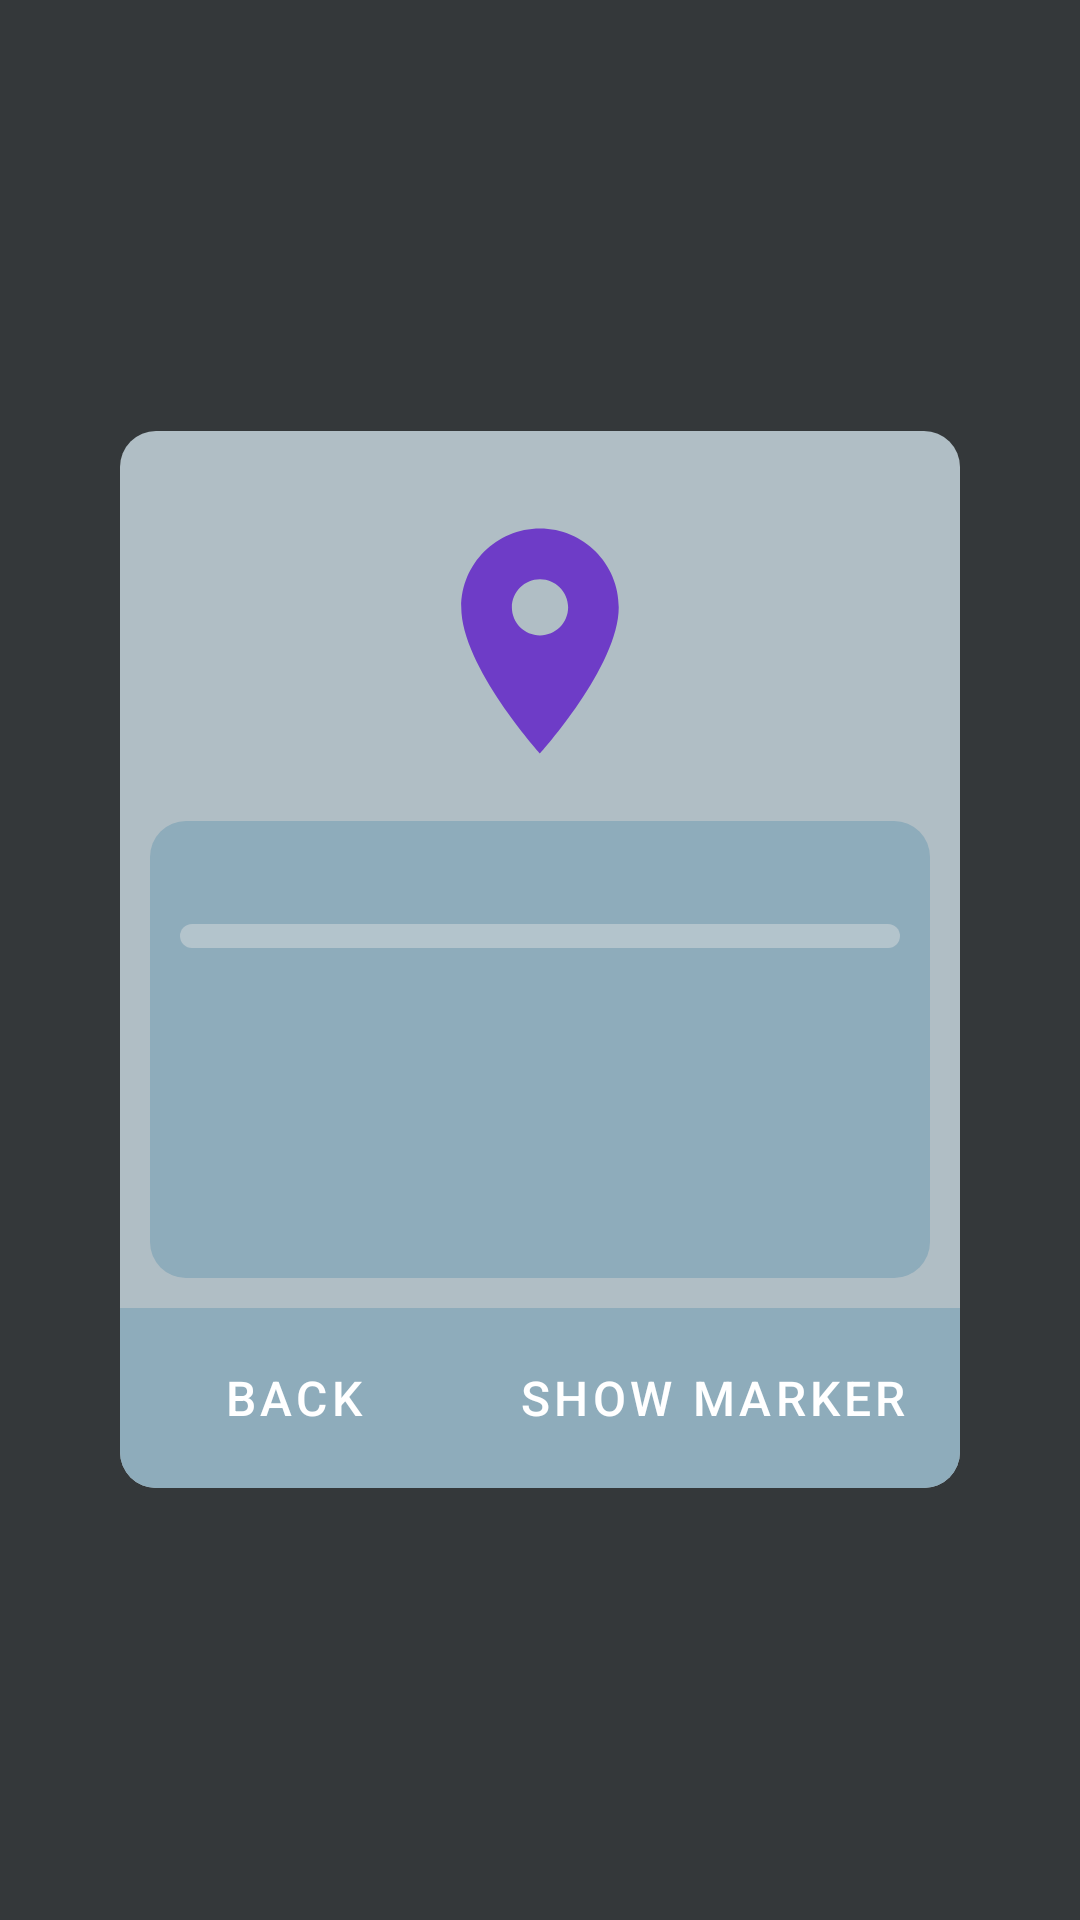

Screen size 1080*1920. Icon name, then its center in pixels as [x,y]:
place pointer: [540,641]
